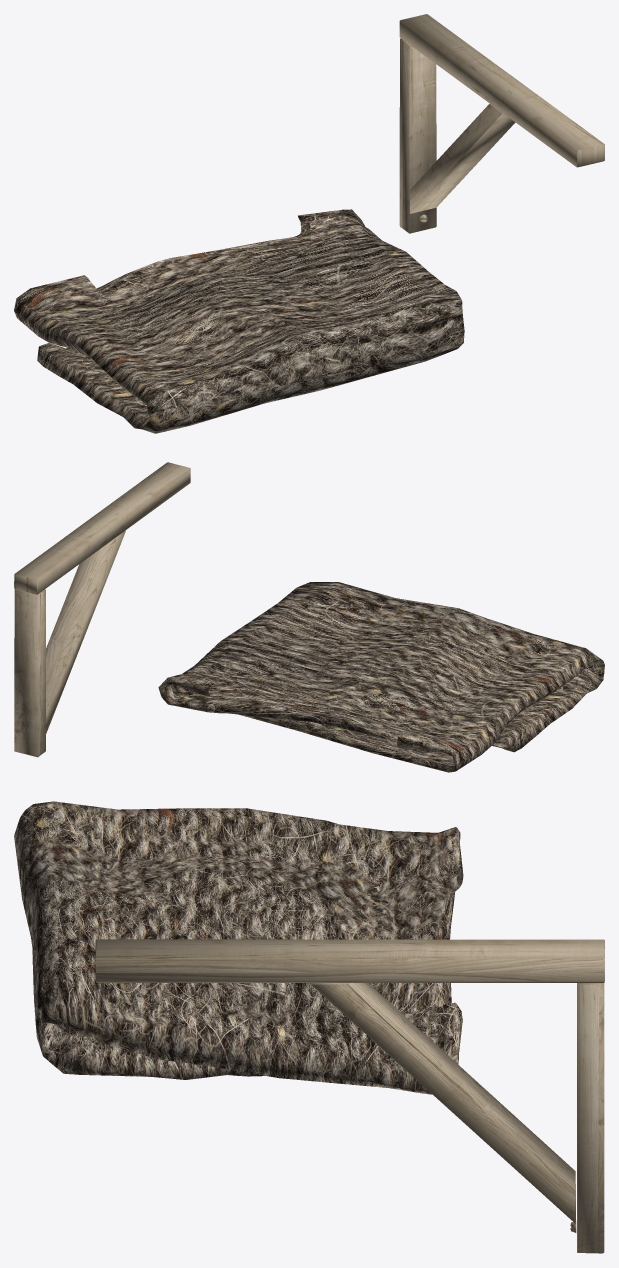
File: rod-cloth031.glb
3 views of the same model, one above another, from view 1: azimuth 30°, elevation 25°; view 2: azimuth 150°, elevation 25°; view 3: azimuth 270°, elevation 25° (orthographic). The views are drawn at different scales.
Visible parts, largest first — view 1: cloth031.001, wood_hanger8.001; view 2: cloth031.001, wood_hanger8.001; view 3: cloth031.001, wood_hanger8.001.
Part boxes in pixels (left/top/right/bottom): cloth031.001: left=14, top=209, right=464, bottom=433; wood_hanger8.001: left=399, top=14, right=604, bottom=233; cloth031.001: left=158, top=582, right=604, bottom=772; wood_hanger8.001: left=14, top=462, right=190, bottom=757; cloth031.001: left=14, top=801, right=463, bottom=1094; wood_hanger8.001: left=95, top=939, right=604, bottom=1253.
Size of the model in its own units: 0.593 by 0.2394 by 0.4342.
2 materials, 2 textured.
